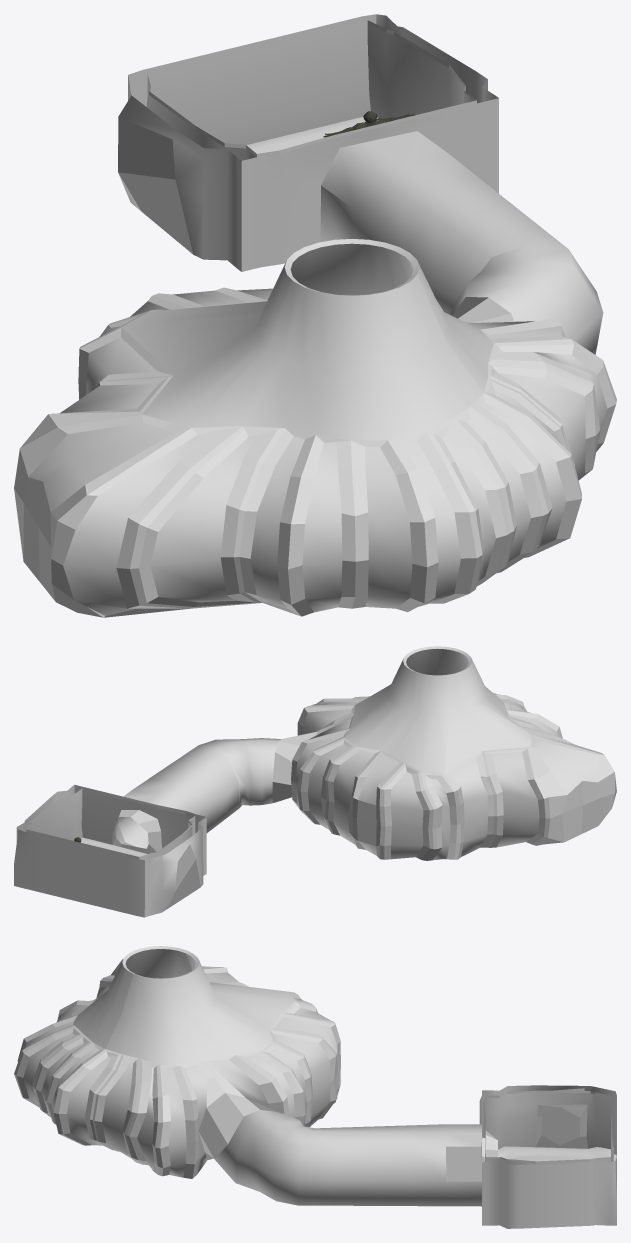
File: FinalRoom2.fbx
The picture shows the model from 3 angles, top to bottom: view 1: azimuth 30°, elevation 25°; view 2: azimuth 150°, elevation 25°; view 3: azimuth 270°, elevation 25°; orthographic projection. The views are drawn at different scales.
Visible parts, largest first — view 1: Torus002; view 2: Torus002; view 3: Torus002.
Boxes of the visible parts, x1,y1,x2,y2 form: Torus002: (14,14,616,617); Torus002: (14,646,616,917); Torus002: (14,946,616,1228).
Size of the model in its own units: 785 by 273 by 940.
